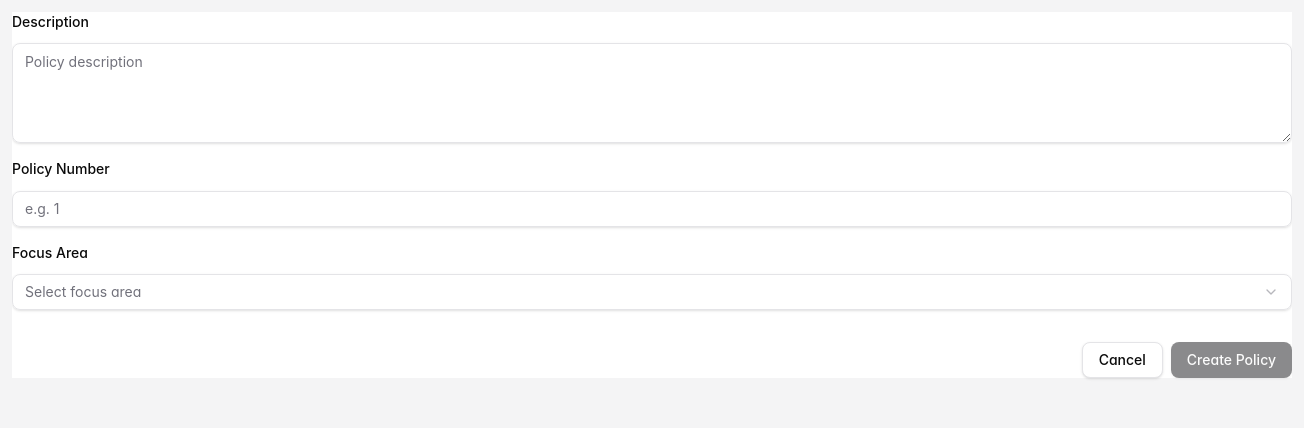
PolicyForm › create mode › shows validation error for empty description on blur
The image size is (1304, 428).
Type "a" into the text box labelled "Description" at (652, 93), box [12, 43, 1292, 143]
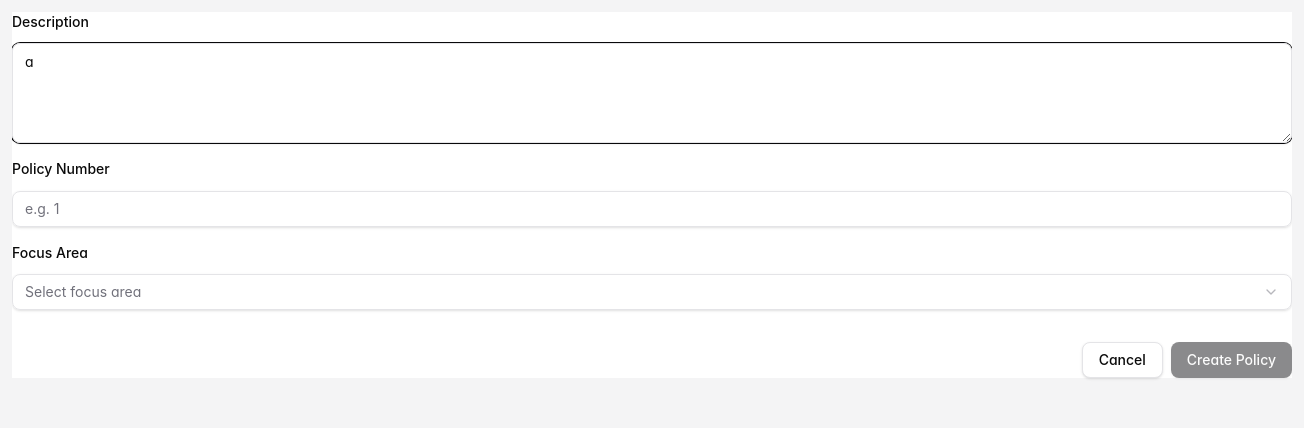
Clear the text box labelled "Description" at (652, 93), box [12, 43, 1292, 143]
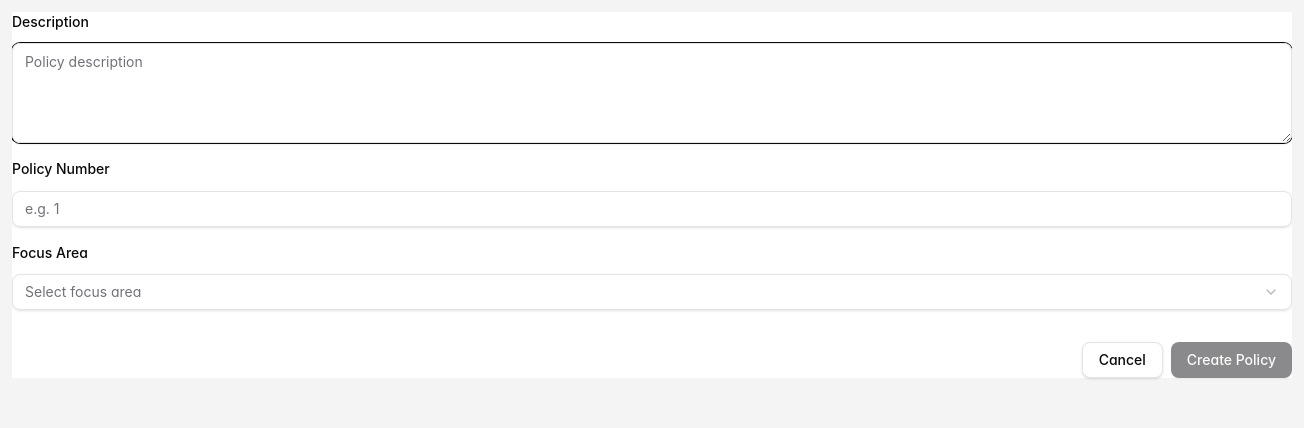
Press Tab
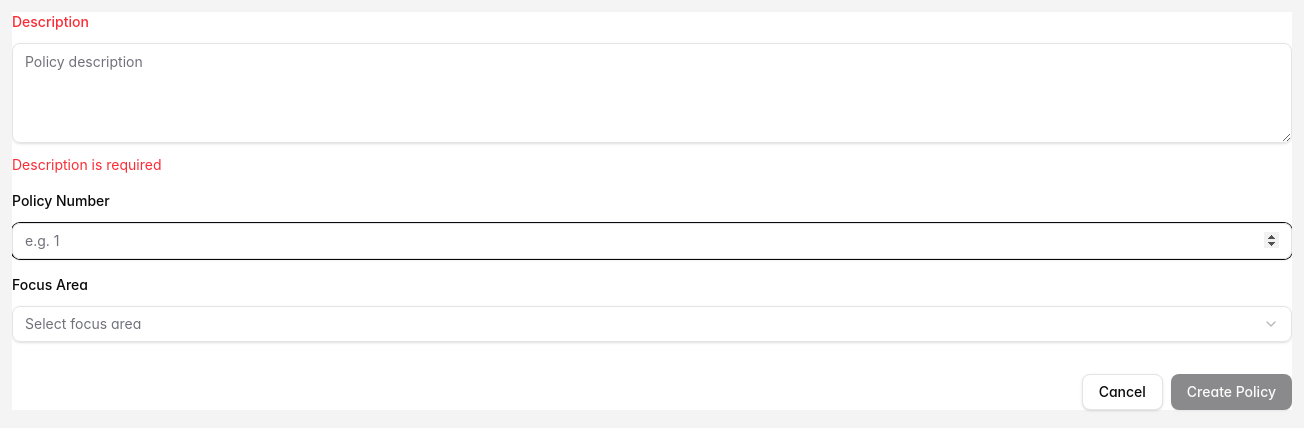
Expected: the text "Description is required" is shown, [12, 156, 162, 173]
